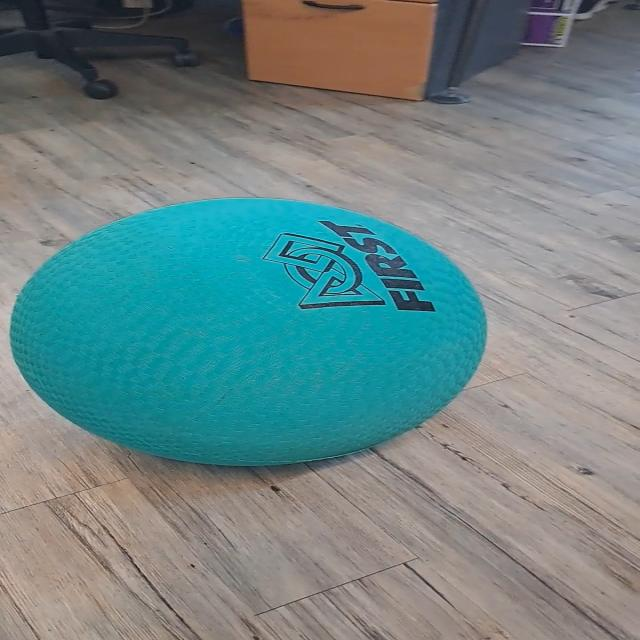ALGAE: (8, 195, 489, 468)
